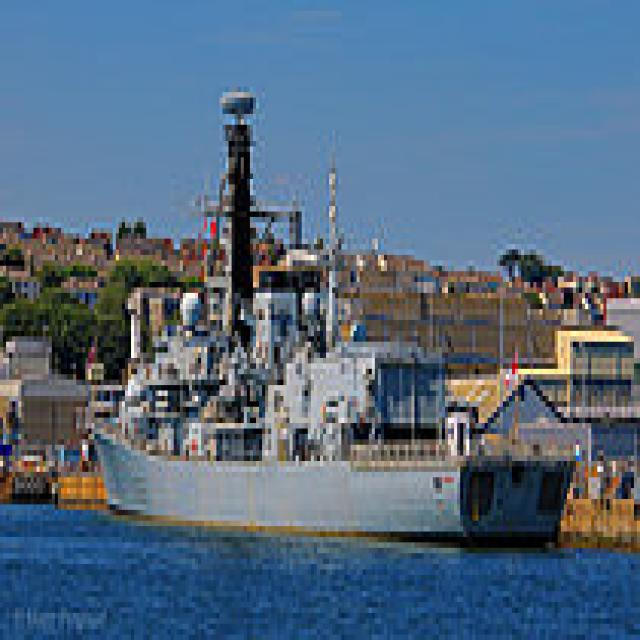Warship: (82, 81, 576, 548)
